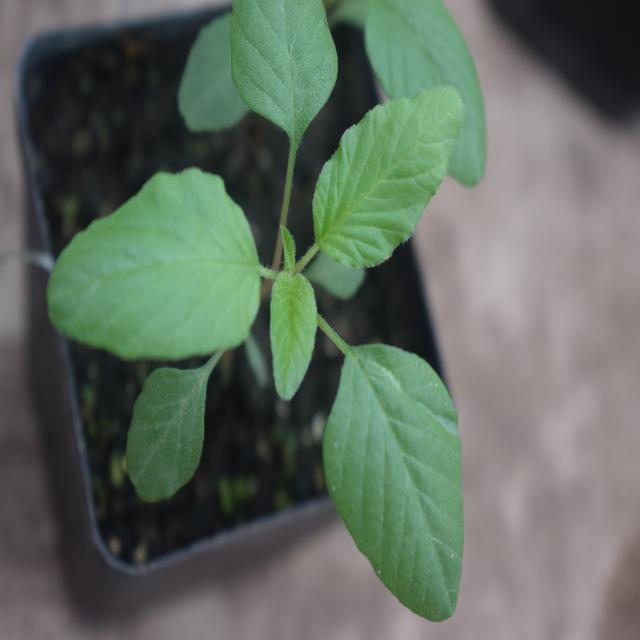pigweed: (47, 8, 466, 620)
